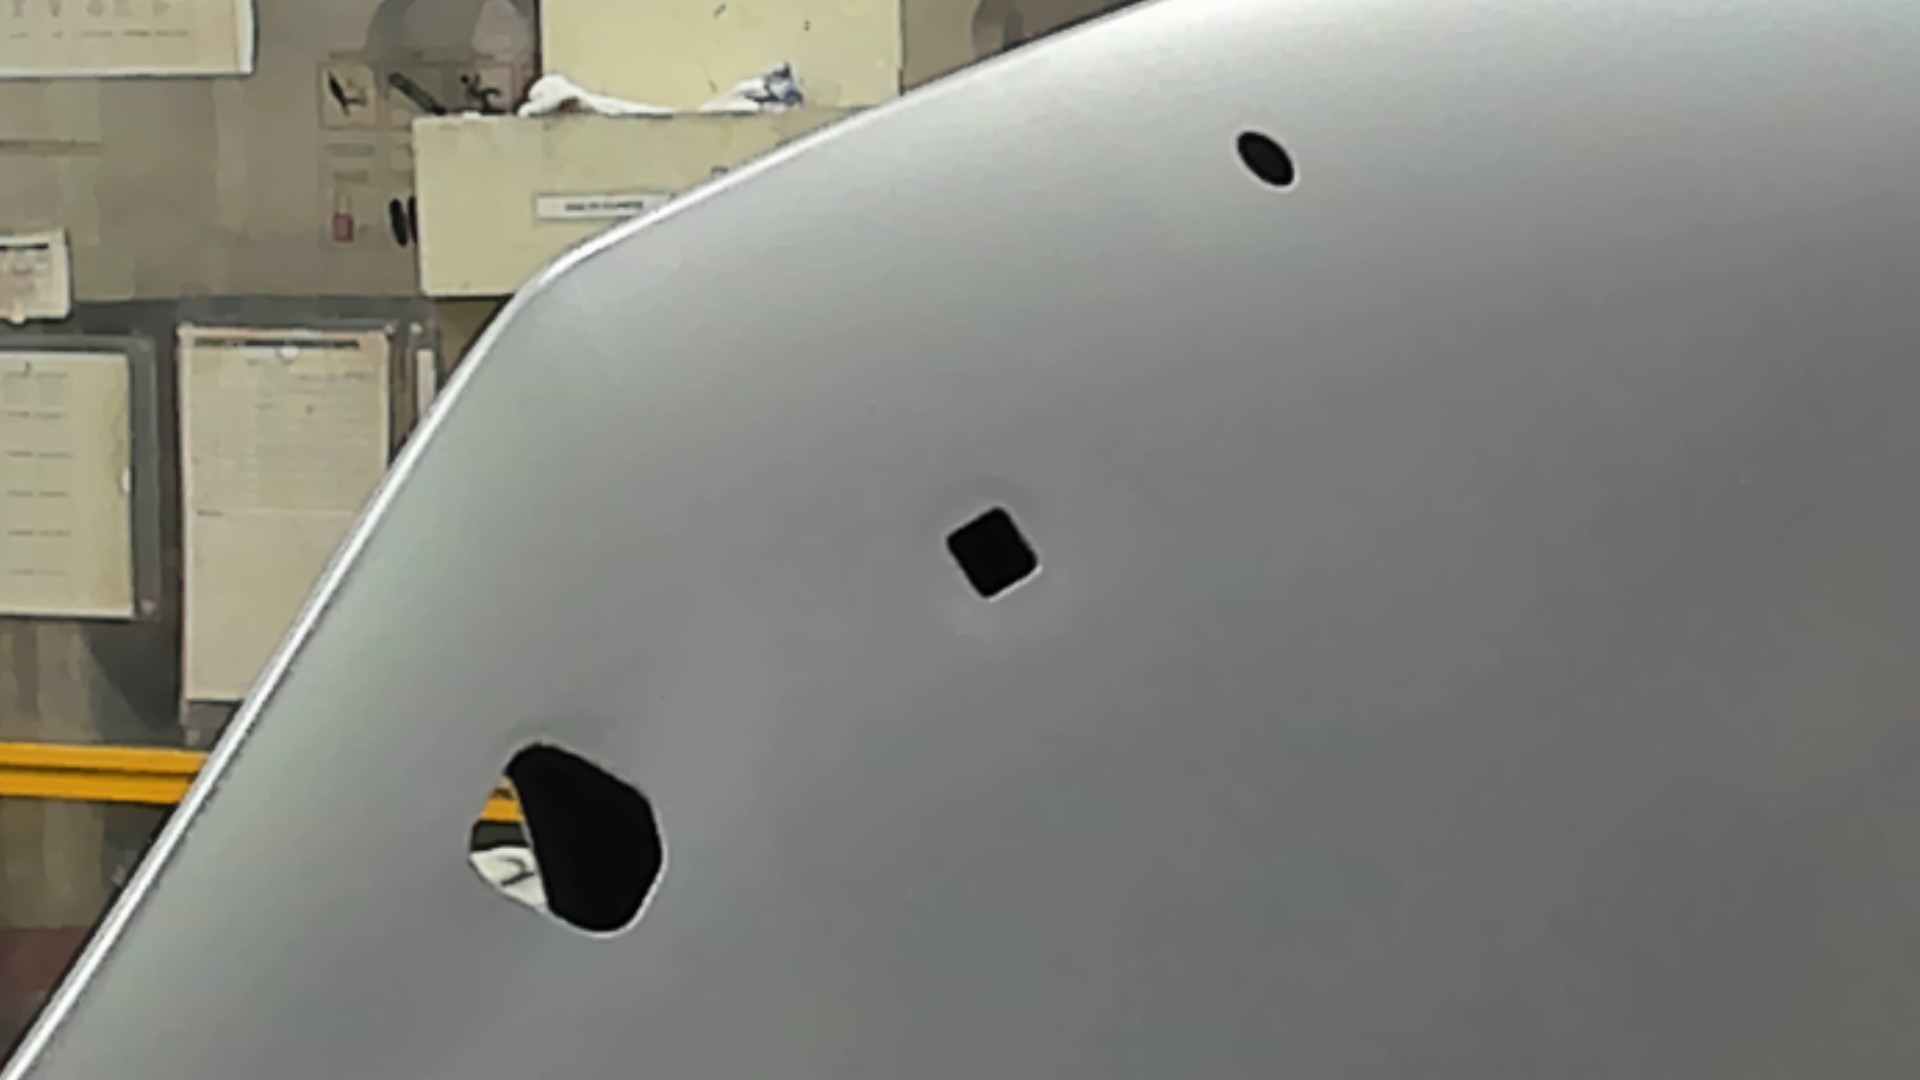chico: (1232, 123, 1302, 193)
grande: (456, 735, 669, 942)
mediano: (938, 502, 1048, 609)
